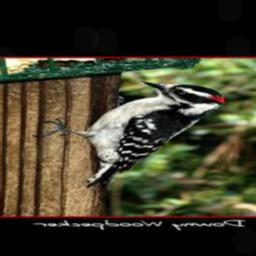Woodpecker: (28, 80, 227, 186)
